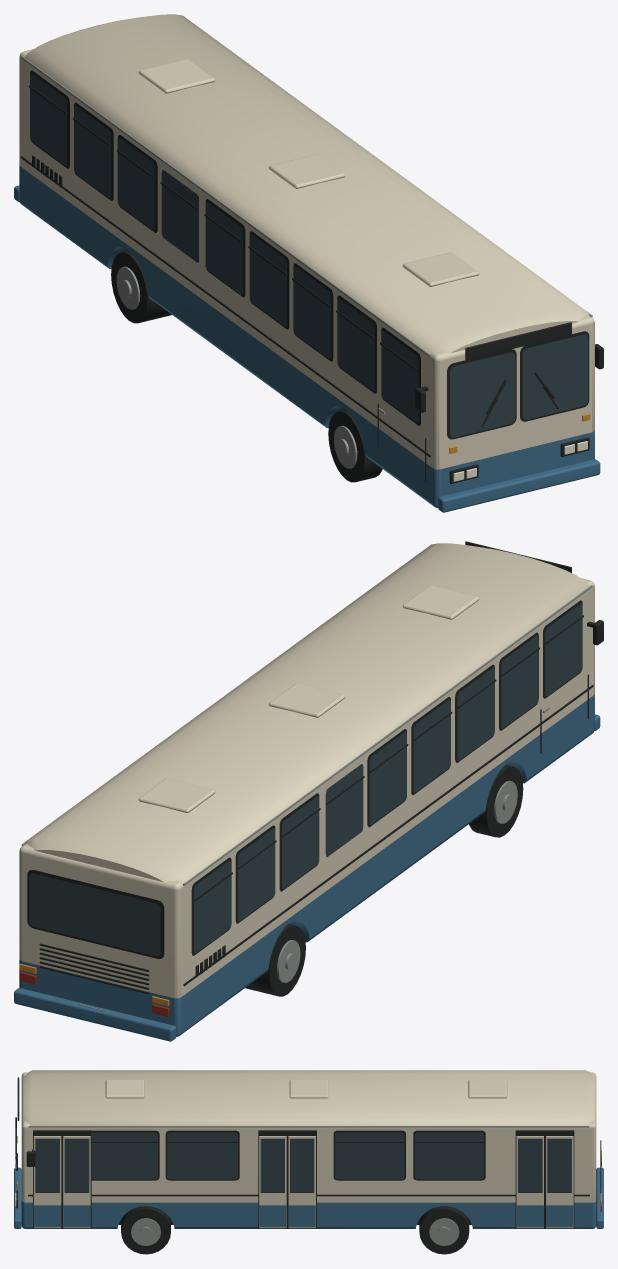
File: LiAZ_5256.glb
3 renders of one model, top to bottom at view 1: azimuth 30°, elevation 25°; view 2: azimuth 150°, elevation 25°; view 3: azimuth 270°, elevation 25°, orthographic. The views are drawn at different scales.
Parts seen in each view (by area): view 1: LiAZ_5256_game.001; view 2: LiAZ_5256_game.001; view 3: LiAZ_5256_game.001.
Boxes of the visible parts, x1,y1,x2,y2 form: LiAZ_5256_game.001: (14,14,603,512); LiAZ_5256_game.001: (14,541,603,1041); LiAZ_5256_game.001: (14,1070,603,1254).
Bounding box in the file's own units: 2.85 × 3.03 × 11.55.
